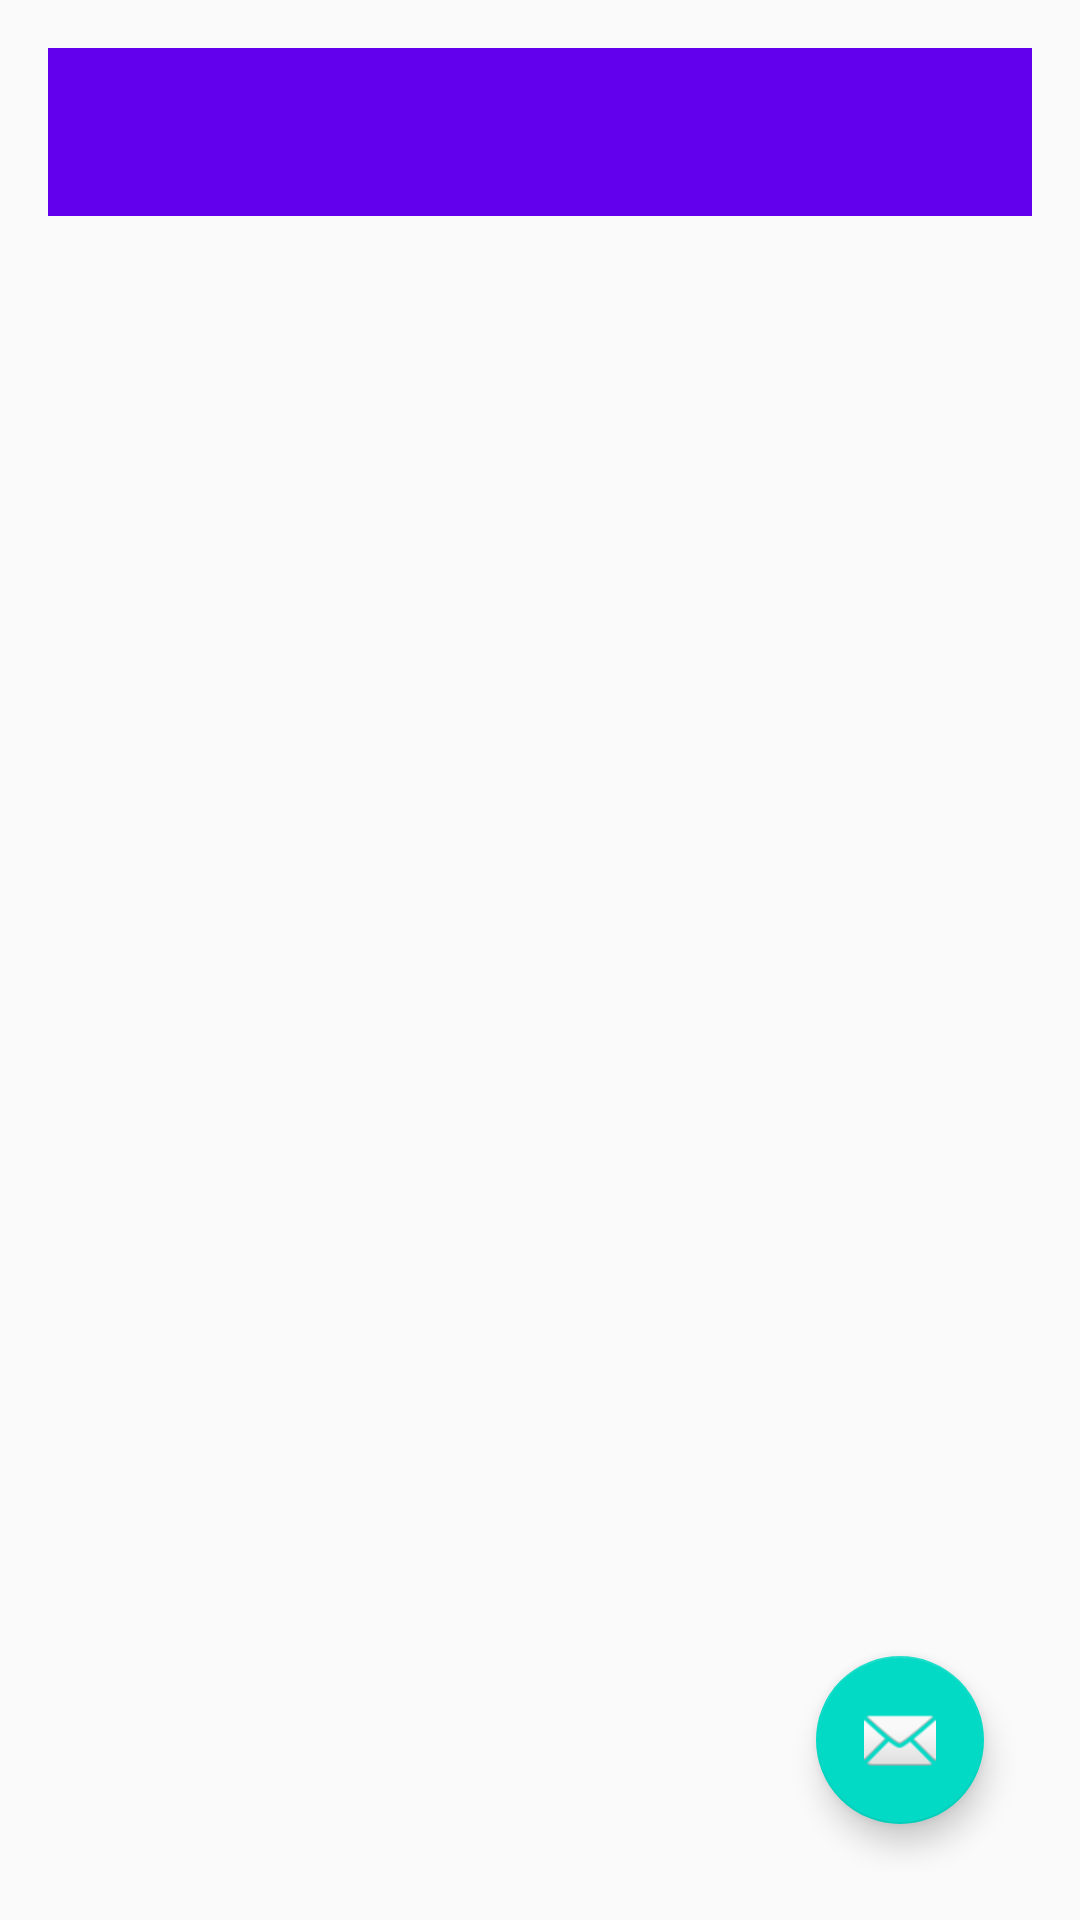

Where to tap for icons on this 1080 x 1920 app screen, as point (x, y):
email: point (900, 1740)
